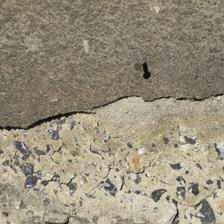Crack: (2, 45, 222, 86)
